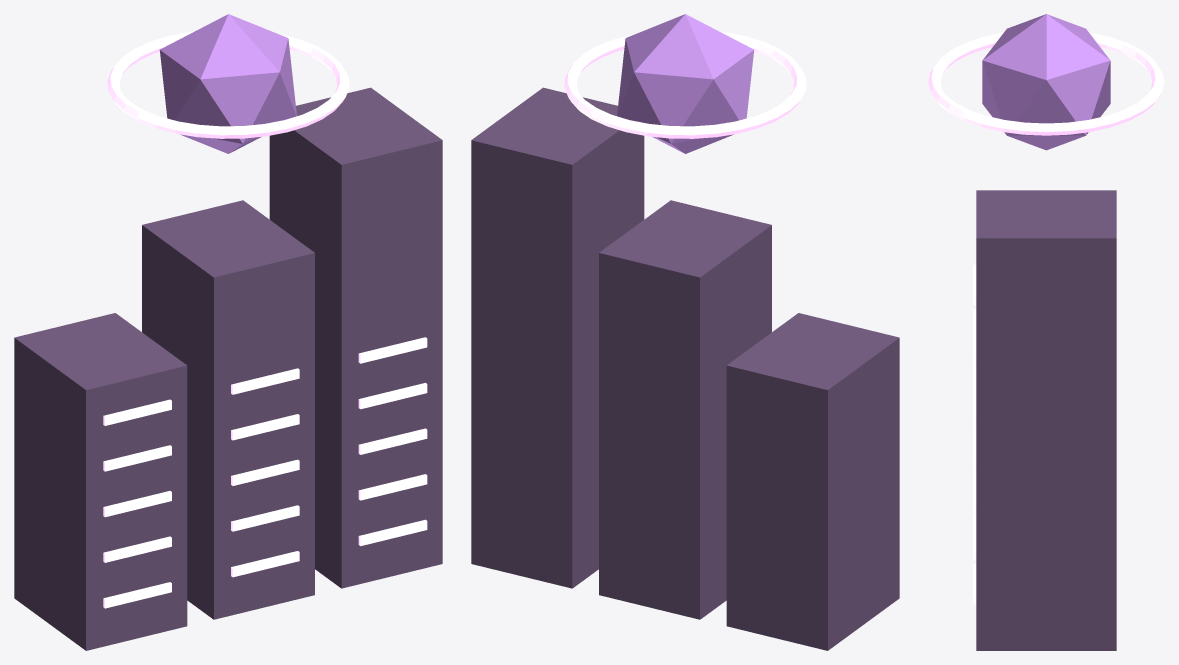
File: blockchain-2f6fc2e56686.glb
3 renders of one model, left to right at view 1: azimuth 30°, elevation 25°; view 2: azimuth 150°, elevation 25°; view 3: azimuth 270°, elevation 25°, orthographic. The views are drawn at different scales.
Visible parts, largest first — view 1: node_tower.002, node_tower.001, node_tower, network_core, network_orbit, node_light.011, node_light.013, node_light.014, node_light.010, node_light.012, node_light.006, node_light.001 (+8 smaller); view 2: node_tower.002, node_tower.001, node_tower, network_core, network_orbit; view 3: node_tower.002, network_core, network_orbit.
Part boxes in pixels (x1,y1,x2,y2): node_tower.002: (269, 87, 442, 588); node_tower.001: (142, 200, 314, 619); node_tower: (14, 313, 187, 650); network_core: (159, 14, 296, 153); network_orbit: (107, 31, 349, 138); node_light.011: (358, 474, 427, 500); node_light.013: (358, 383, 427, 409); node_light.014: (358, 337, 427, 363); node_light.010: (358, 519, 427, 546); node_light.012: (358, 428, 427, 454); node_light.006: (231, 505, 299, 531); node_light.001: (103, 536, 171, 562); node_tower.002: (471, 87, 644, 588); node_tower.001: (599, 200, 771, 619); node_tower: (726, 313, 899, 650); network_core: (617, 14, 754, 153); network_orbit: (564, 31, 806, 138); node_tower.002: (976, 190, 1116, 650); network_core: (982, 14, 1110, 150); network_orbit: (928, 32, 1164, 135).
Size of the model in its own units: 2.29 by 3.48 by 1.35.
